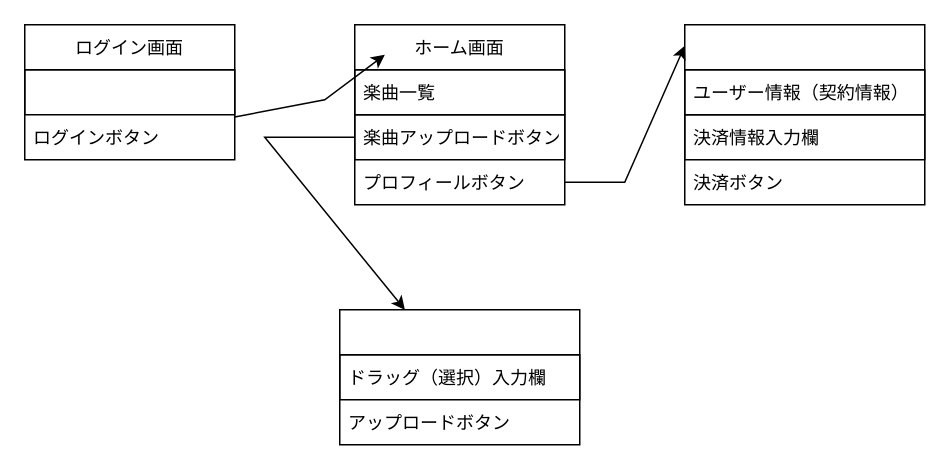
Image size: 950x470. Some labels were removed from this diagram. Here are the shapes that lost their labels. From the top down, the box of each, then its label:
(23, 68, 235, 115): ログインid入力欄
(683, 23, 925, 205): プロフィール画面
(338, 308, 580, 445): 楽曲アップロード画面
